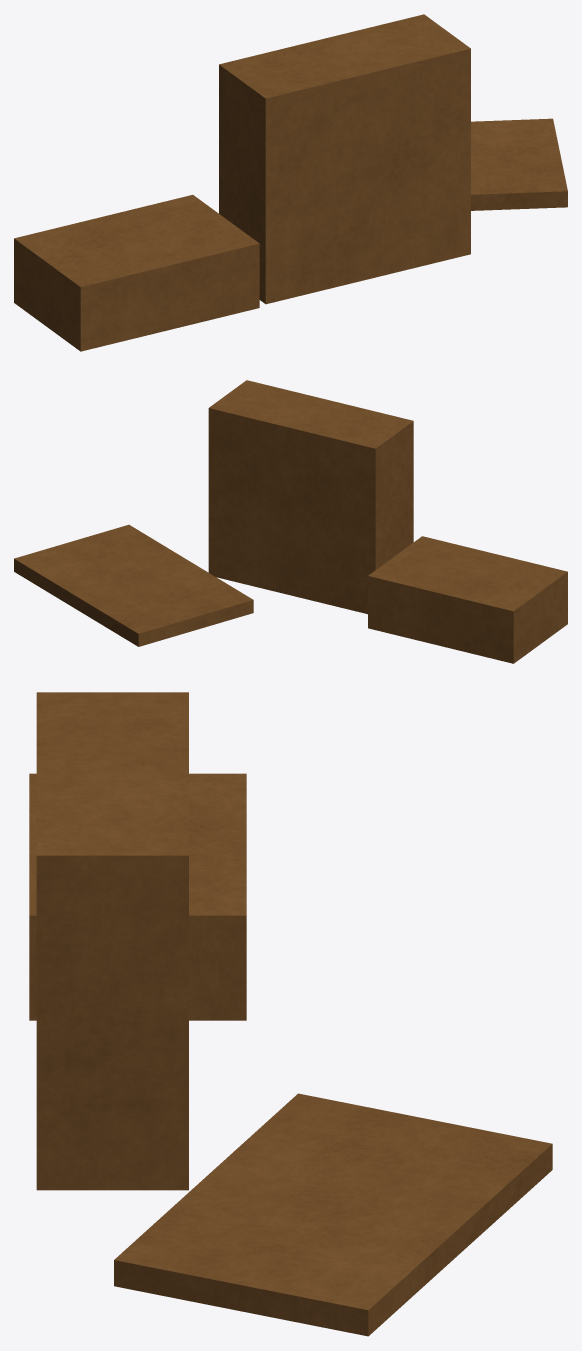
File: cardboard_boxes.glb
3 views of the same model, one above another, from view 1: azimuth 30°, elevation 25°; view 2: azimuth 150°, elevation 25°; view 3: azimuth 270°, elevation 25° (orthographic). The views are drawn at different scales.
Visible parts, largest first — view 1: cardboard_boxes; view 2: cardboard_boxes; view 3: cardboard_boxes.
Part boxes in pixels (x1=…): cardboard_boxes: x1=14, y1=14, x2=567, y2=351; cardboard_boxes: x1=14, y1=380, x2=567, y2=663; cardboard_boxes: x1=29, y1=692, x2=552, y2=1336.
Bounding box in the file's own units: 8.61 × 2.94 × 4.16.
1 material, 1 textured.
